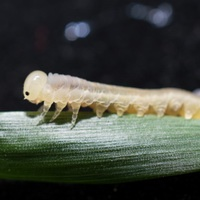insect: (23, 70, 199, 128)
